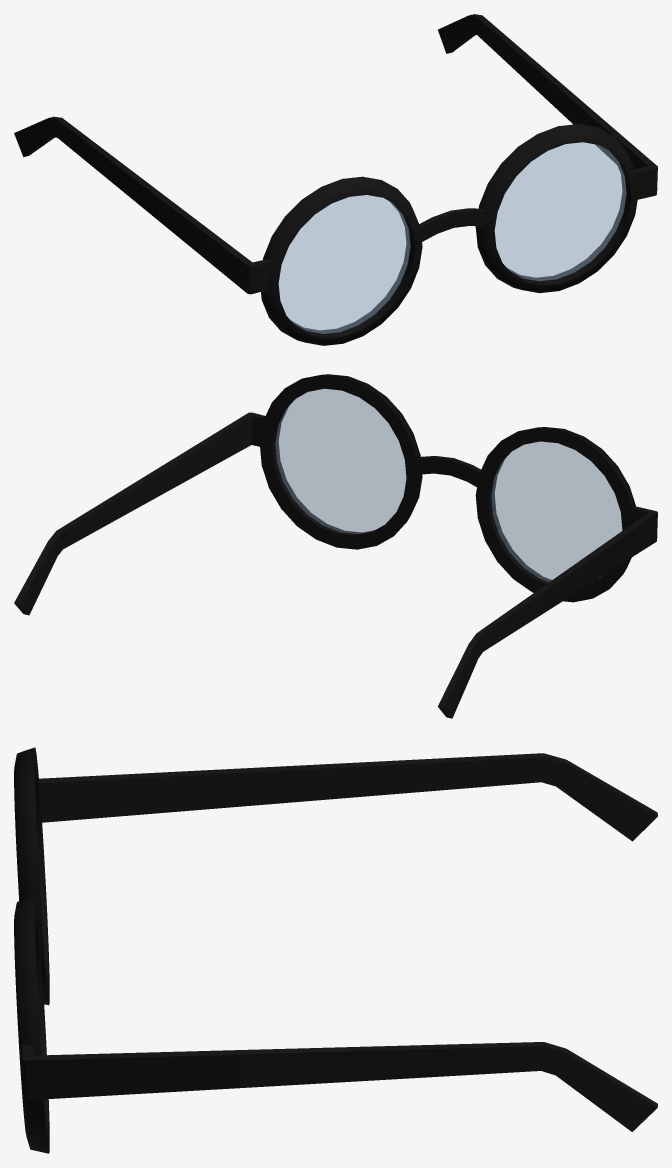
Rendered from RoundGlasses.fbx.
3 renders of one model, top to bottom at view 1: azimuth 30°, elevation 25°; view 2: azimuth 150°, elevation 25°; view 3: azimuth 270°, elevation 25°, orthographic. The views are drawn at different scales.
Visible parts, largest first — view 1: RoundGlasses; view 2: RoundGlasses; view 3: RoundGlasses.
Part boxes in pixels (left/top/right/bottom): RoundGlasses: left=14, top=14, right=657, bottom=345; RoundGlasses: left=14, top=374, right=657, bottom=718; RoundGlasses: left=14, top=747, right=657, bottom=1153.
Bounding box in the file's own units: 72.25 × 26.78 × 66.59.
